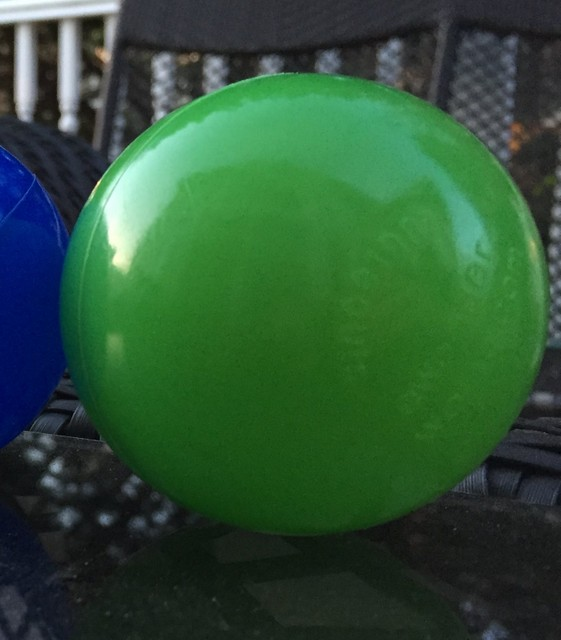Ball: (60, 71, 546, 528)
